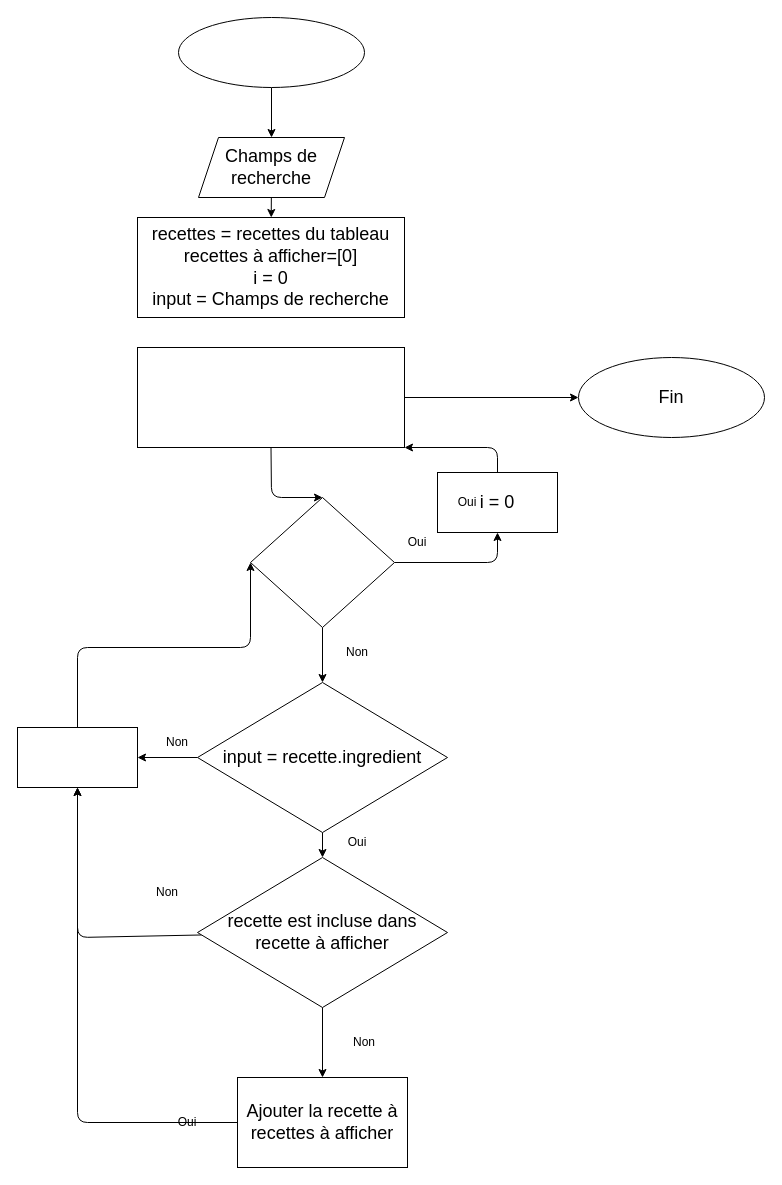
This 782x1185 diagram has some shape labels left out. The shapes that lost their labels are listed below. From the top down, each one's centre as x and y in pixels, then its label:
At [271,52]: "Début".
At [270,397]: "Pour item = ingredient Puis item = ustensil Puis item = appareil".
At [322,562]: "i < taille de recettes".
At [77,757]: "i = i+1".
